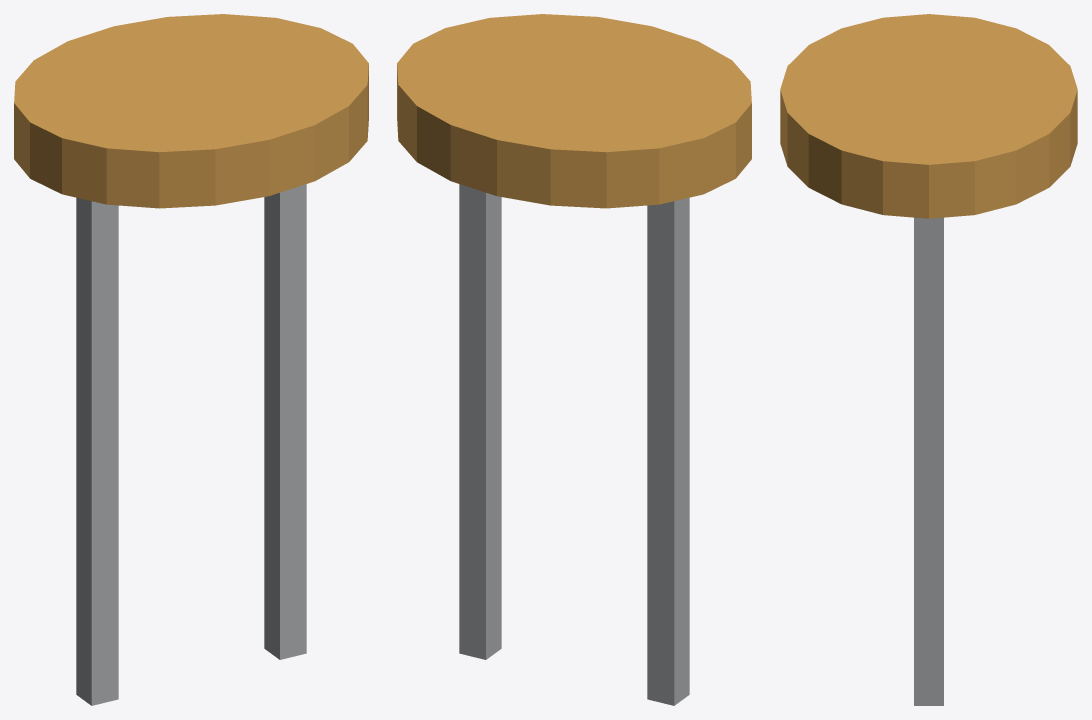
The model's file is LDR.glb.
3 views of the same model, side by side, from view 1: azimuth 30°, elevation 25°; view 2: azimuth 150°, elevation 25°; view 3: azimuth 270°, elevation 25° (orthographic). The views are drawn at different scales.
Visible parts, largest first — view 1: Mesh_Mesh_head_geo.001_lambert2SG.001; view 2: Mesh_Mesh_head_geo.001_lambert2SG.001; view 3: Mesh_Mesh_head_geo.001_lambert2SG.001.
Boxes of the visible parts, box(x1,y1,x2,y2) form: Mesh_Mesh_head_geo.001_lambert2SG.001: box(14, 14, 368, 705); Mesh_Mesh_head_geo.001_lambert2SG.001: box(397, 14, 751, 705); Mesh_Mesh_head_geo.001_lambert2SG.001: box(780, 14, 1077, 705).
Size of the model in its own units: 12 by 21 by 10.
